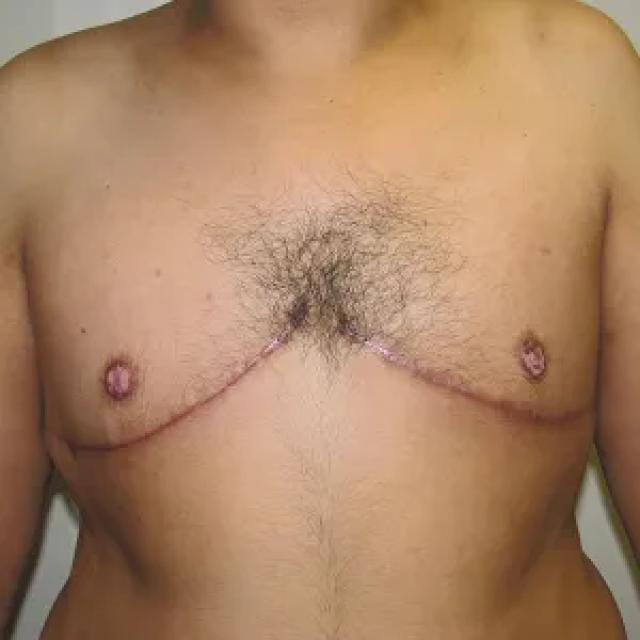Seno herido: (31, 244, 316, 479), (325, 244, 611, 451)
